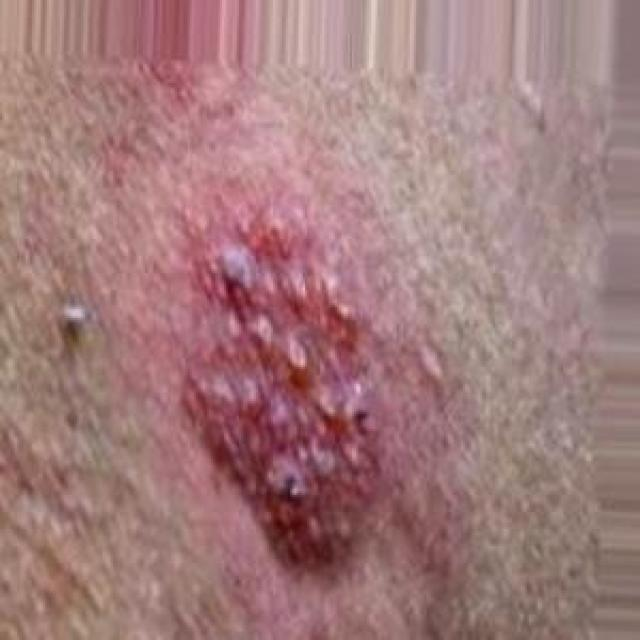Shingles: (180, 206, 391, 562)
